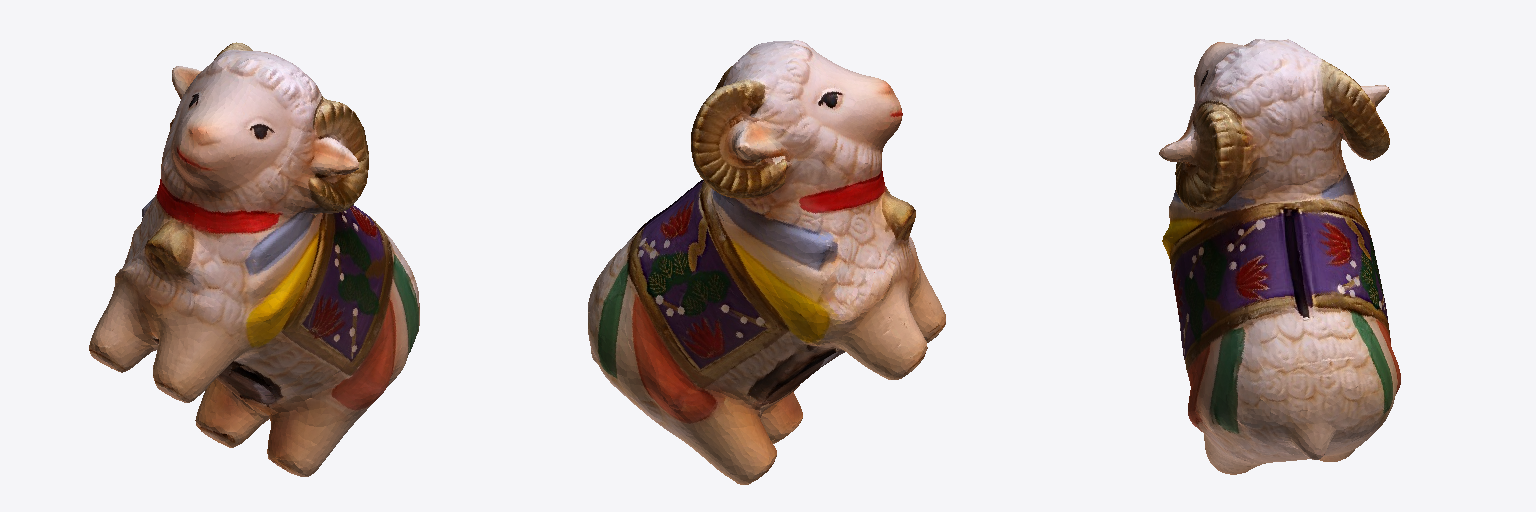
3 renders of one model, left to right at view 1: azimuth 30°, elevation 25°; view 2: azimuth 150°, elevation 25°; view 3: azimuth 270°, elevation 25°, orthographic.
Visible parts, largest first — view 1: Sheep; view 2: Sheep; view 3: Sheep.
Part boxes in pixels (x1,y1,x2,y2): Sheep: (89, 42, 419, 476); Sheep: (588, 40, 945, 484); Sheep: (1159, 39, 1400, 474).
Bounding box in the file's own units: 0.1339 × 0.1667 × 0.0879.
1 materials, 1 textured.